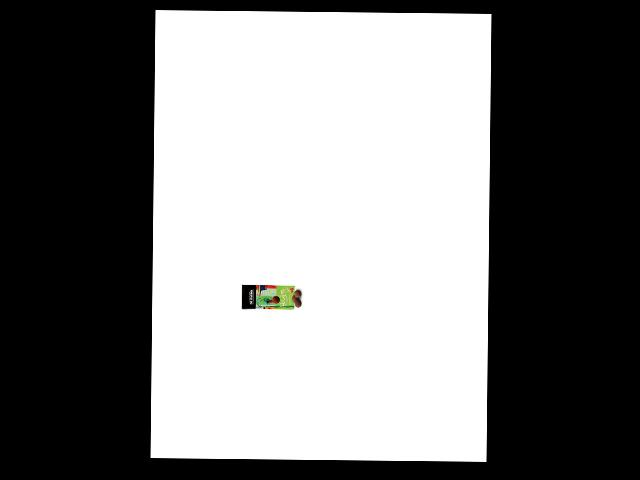chocolate: (239, 281, 295, 315)
